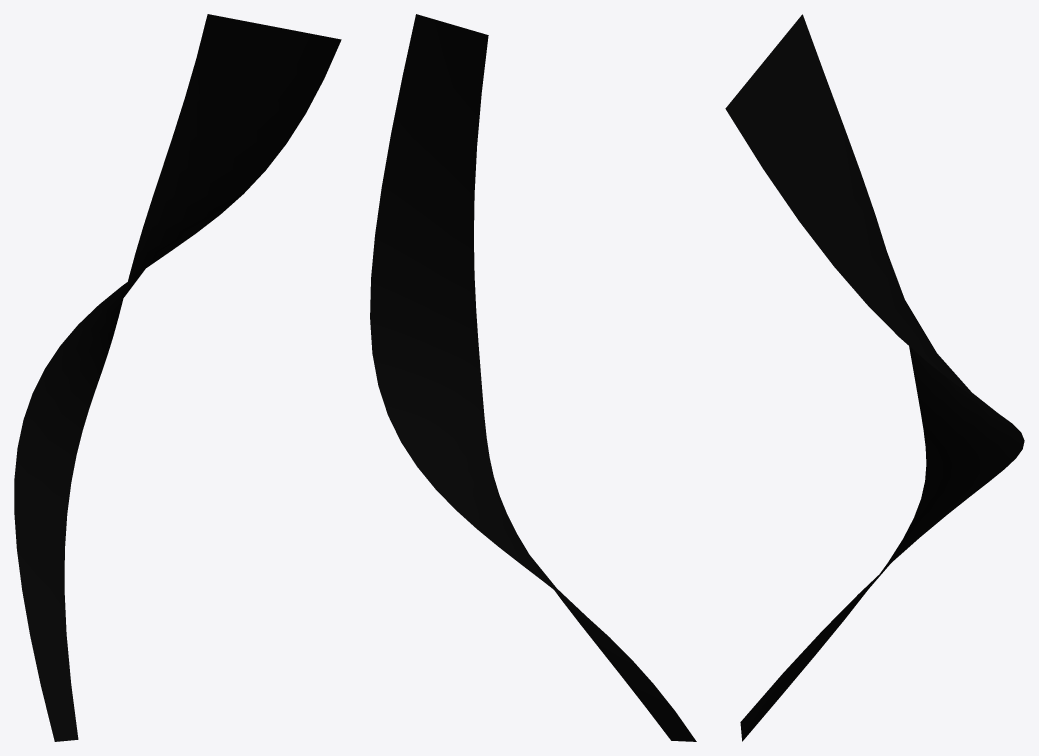
Rendered from p_mesh_drillbot_drilltrail03.fbx.
3 views of the same model, side by side, from view 1: azimuth 30°, elevation 25°; view 2: azimuth 150°, elevation 25°; view 3: azimuth 270°, elevation 25° (orthographic). The views are drawn at different scales.
Visible parts, largest first — view 1: p_builderguide_trail03; view 2: p_builderguide_trail03; view 3: p_builderguide_trail03.
Boxes of the visible parts, box(x1,y1,x2,y2) form: p_builderguide_trail03: box(14, 14, 341, 741); p_builderguide_trail03: box(370, 14, 696, 741); p_builderguide_trail03: box(725, 14, 1024, 741).
Bounding box in the file's own units: 18.28 × 41.7 × 13.8.
